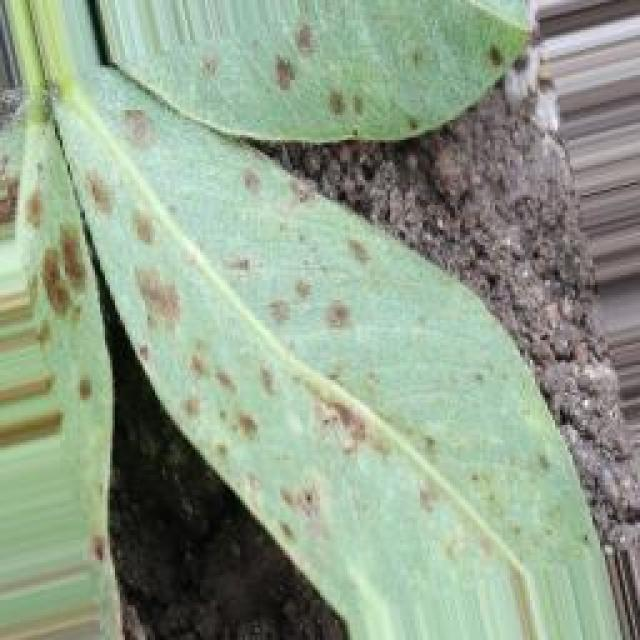Whitefly: (1, 6, 545, 624)
